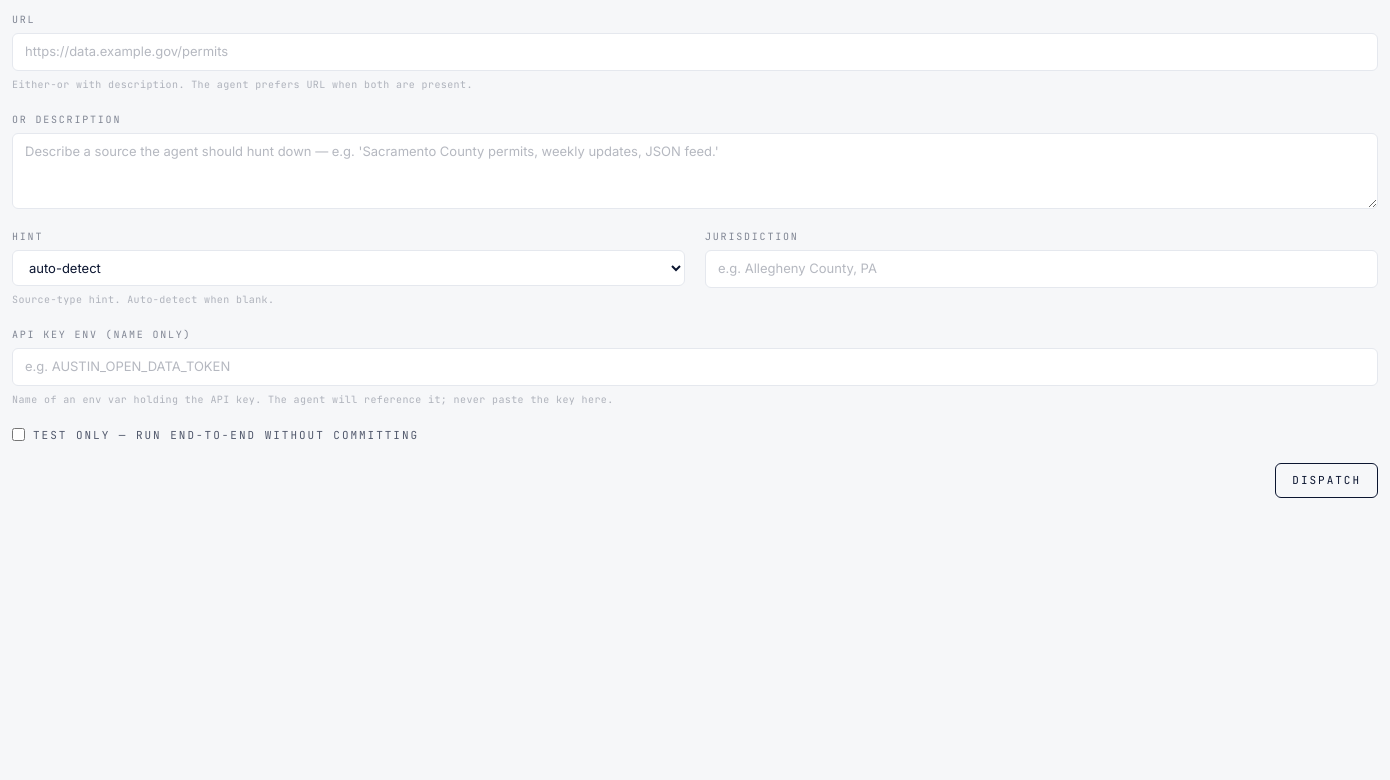
Test case: SourceOnboarderInputForm › blocks submission when both URL and description are empty
The image size is (1390, 780).
Click the button with test id "source-onboarder-dispatch-button".
click(1327, 480)  # box x1=1275 y1=463 x2=1378 y2=498
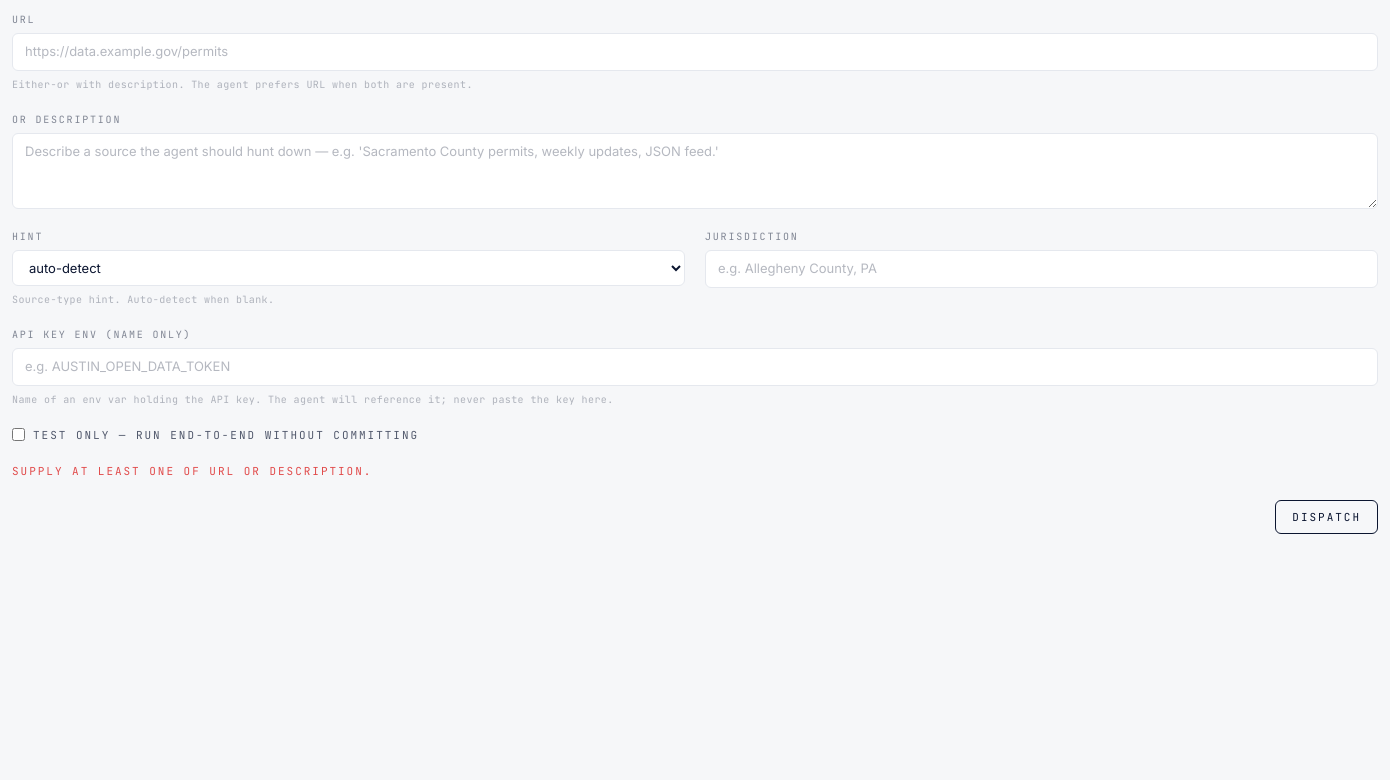
Expected: the message with test id "source-onboarder-form-error" shows "at least one of URL or description", x1=12 y1=464 x2=372 y2=478
